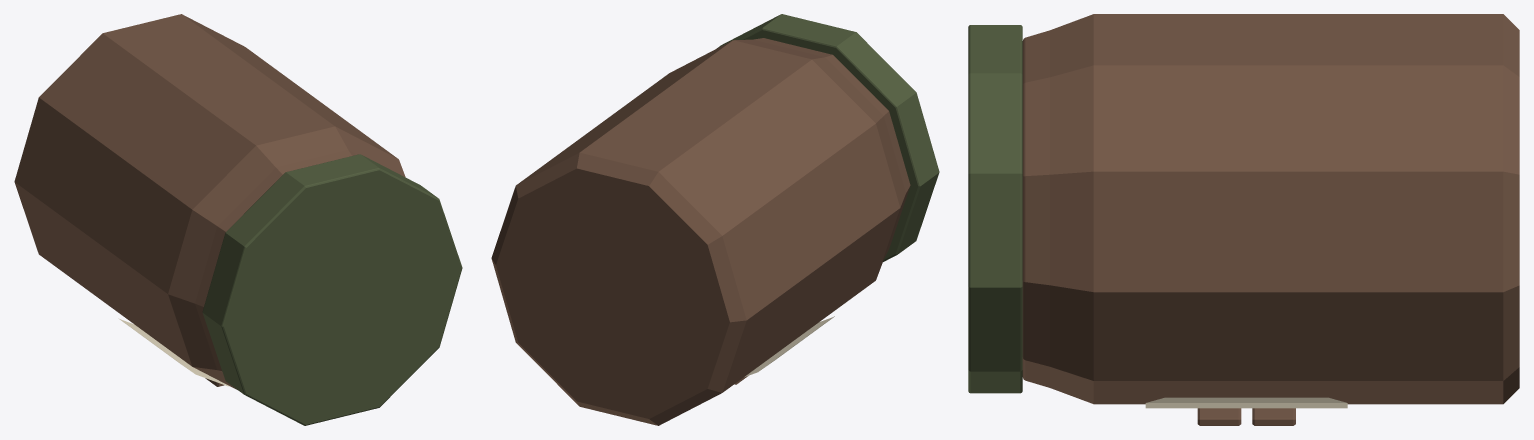
Rendered from chocolate_spread.glb.
3 views of the same model, side by side, from view 1: azimuth 30°, elevation 25°; view 2: azimuth 150°, elevation 25°; view 3: azimuth 270°, elevation 25° (orthographic). The views are drawn at different scales.
Parts seen in each view (by area): view 1: chocolate_spread; view 2: chocolate_spread; view 3: chocolate_spread.
Boxes of the visible parts, left/top/right/bottom form: chocolate_spread: left=14, top=14, right=462, bottom=425; chocolate_spread: left=491, top=14, right=939, bottom=425; chocolate_spread: left=968, top=14, right=1519, bottom=425.
Size of the model in its own units: 0.072 by 0.073 by 0.101.
